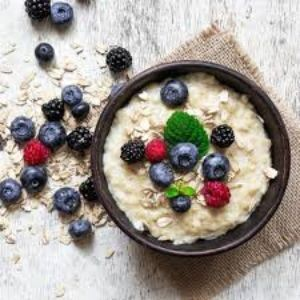oat_brain food: (122, 73, 266, 226)
